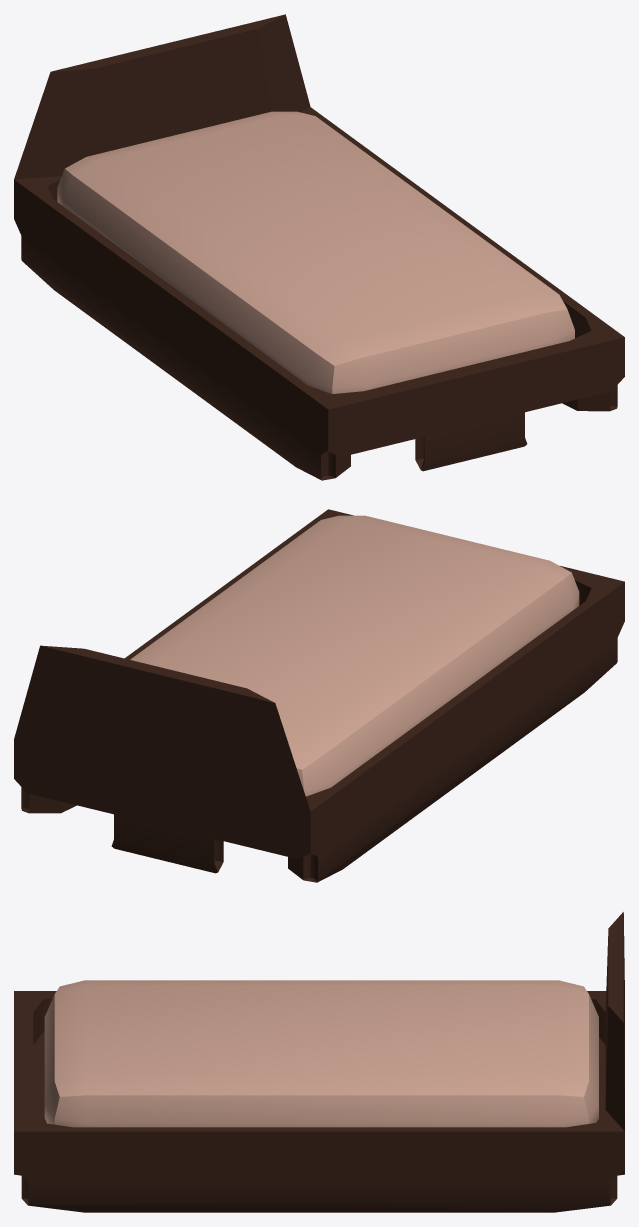
The model's file is NormalBed.fbx.
The picture shows the model from 3 angles, top to bottom: view 1: azimuth 30°, elevation 25°; view 2: azimuth 150°, elevation 25°; view 3: azimuth 270°, elevation 25°; orthographic projection. The views are drawn at different scales.
Parts seen in each view (by area): view 1: Box037, Box039; view 2: Box039, Box037; view 3: Box037, Box039.
Part boxes in pixels (bbox=[...]): Box037: bbox=[57, 111, 574, 393]; Box039: bbox=[14, 14, 624, 480]; Box039: bbox=[14, 509, 624, 882]; Box037: bbox=[130, 515, 579, 796]; Box037: bbox=[44, 980, 598, 1127]; Box039: bbox=[14, 912, 624, 1212].
Size of the model in its own units: 68.73 by 41.41 by 126.
